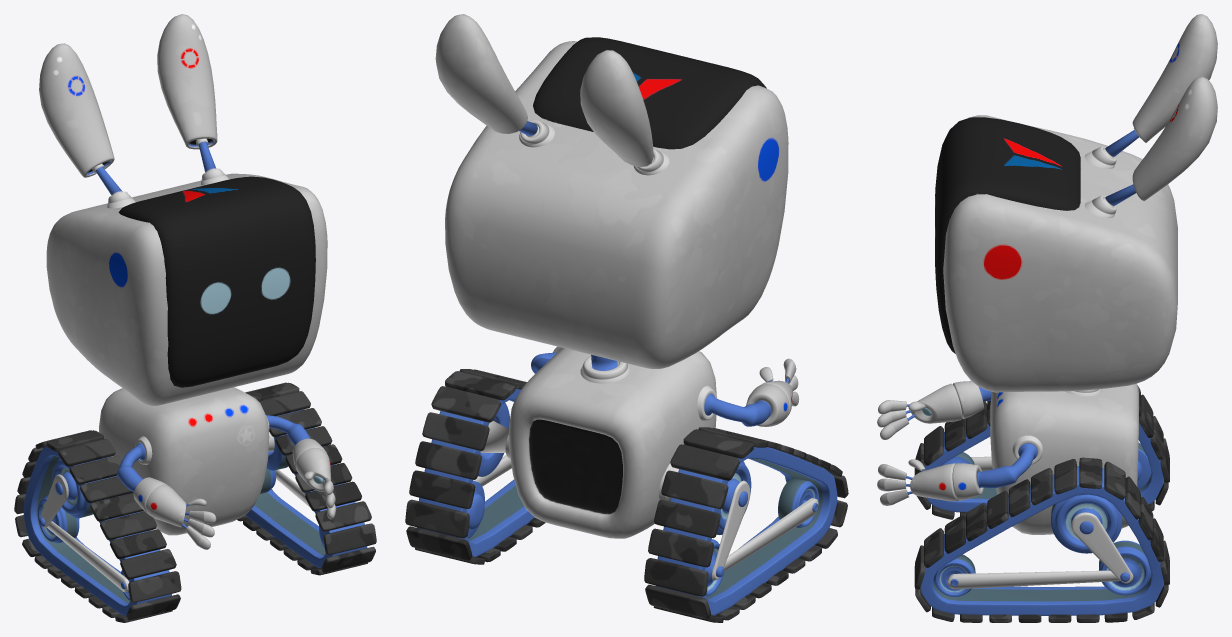
The model's file is robot.fbx.
3 views of the same model, side by side, from view 1: azimuth 30°, elevation 25°; view 2: azimuth 150°, elevation 25°; view 3: azimuth 270°, elevation 25° (orthographic). The views are drawn at different scales.
Parts seen in each view (by area): view 1: Cube.002_Cube.042; view 2: Cube.002_Cube.042; view 3: Cube.002_Cube.042.
Part boxes in pixels (x1,y1,x2,y2): Cube.002_Cube.042: (14, 14, 376, 622); Cube.002_Cube.042: (405, 14, 848, 622); Cube.002_Cube.042: (877, 14, 1217, 622).
Size of the model in its own units: 26.25 by 48.99 by 29.5.
Materials: 1 (1 with a texture image).
